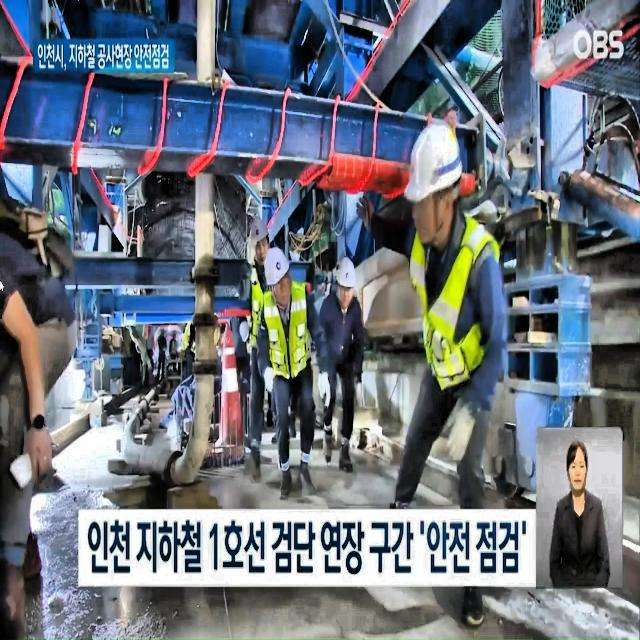safety_helmet: (404, 116, 462, 199), (264, 245, 290, 286), (332, 258, 361, 291), (245, 215, 271, 248)
safety_jacket: (407, 220, 502, 388), (262, 280, 310, 382), (248, 270, 288, 351)
